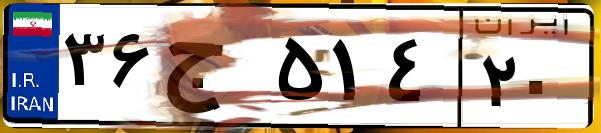0: (525, 38, 570, 115)
1: (330, 28, 385, 110)
2: (475, 38, 525, 113)
3: (57, 26, 110, 100)
4: (385, 28, 445, 110)
5: (270, 28, 330, 110)
6: (110, 28, 158, 98)
ج: (158, 20, 270, 120)
